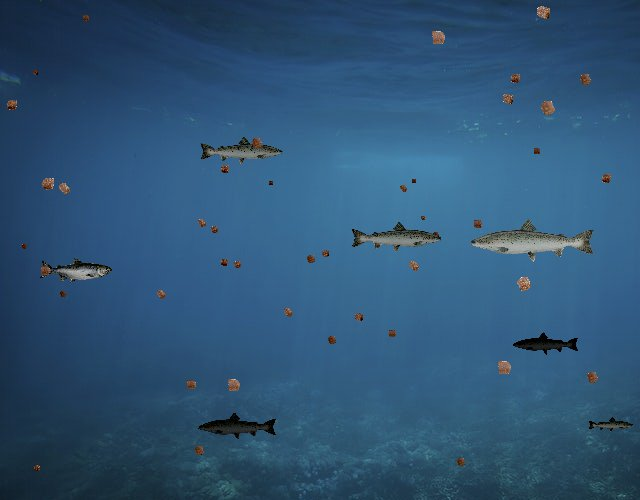Fish: (468, 217, 597, 263), (350, 220, 444, 254), (198, 135, 284, 166), (198, 411, 279, 441), (39, 258, 112, 284), (512, 332, 580, 356), (587, 416, 634, 433)
Pellet: (52, 176, 77, 201), (580, 366, 604, 390), (451, 453, 470, 472), (30, 461, 44, 475), (29, 67, 41, 79)
